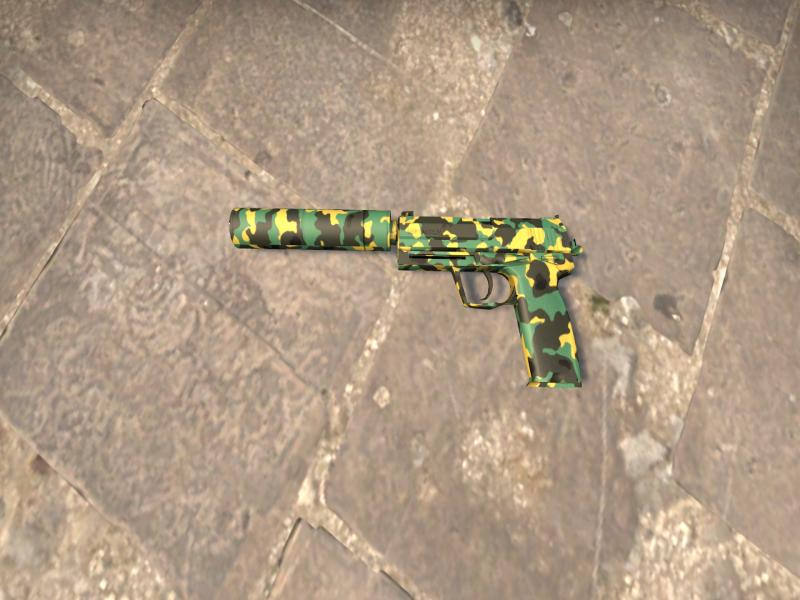USP: (229, 206, 582, 386)
